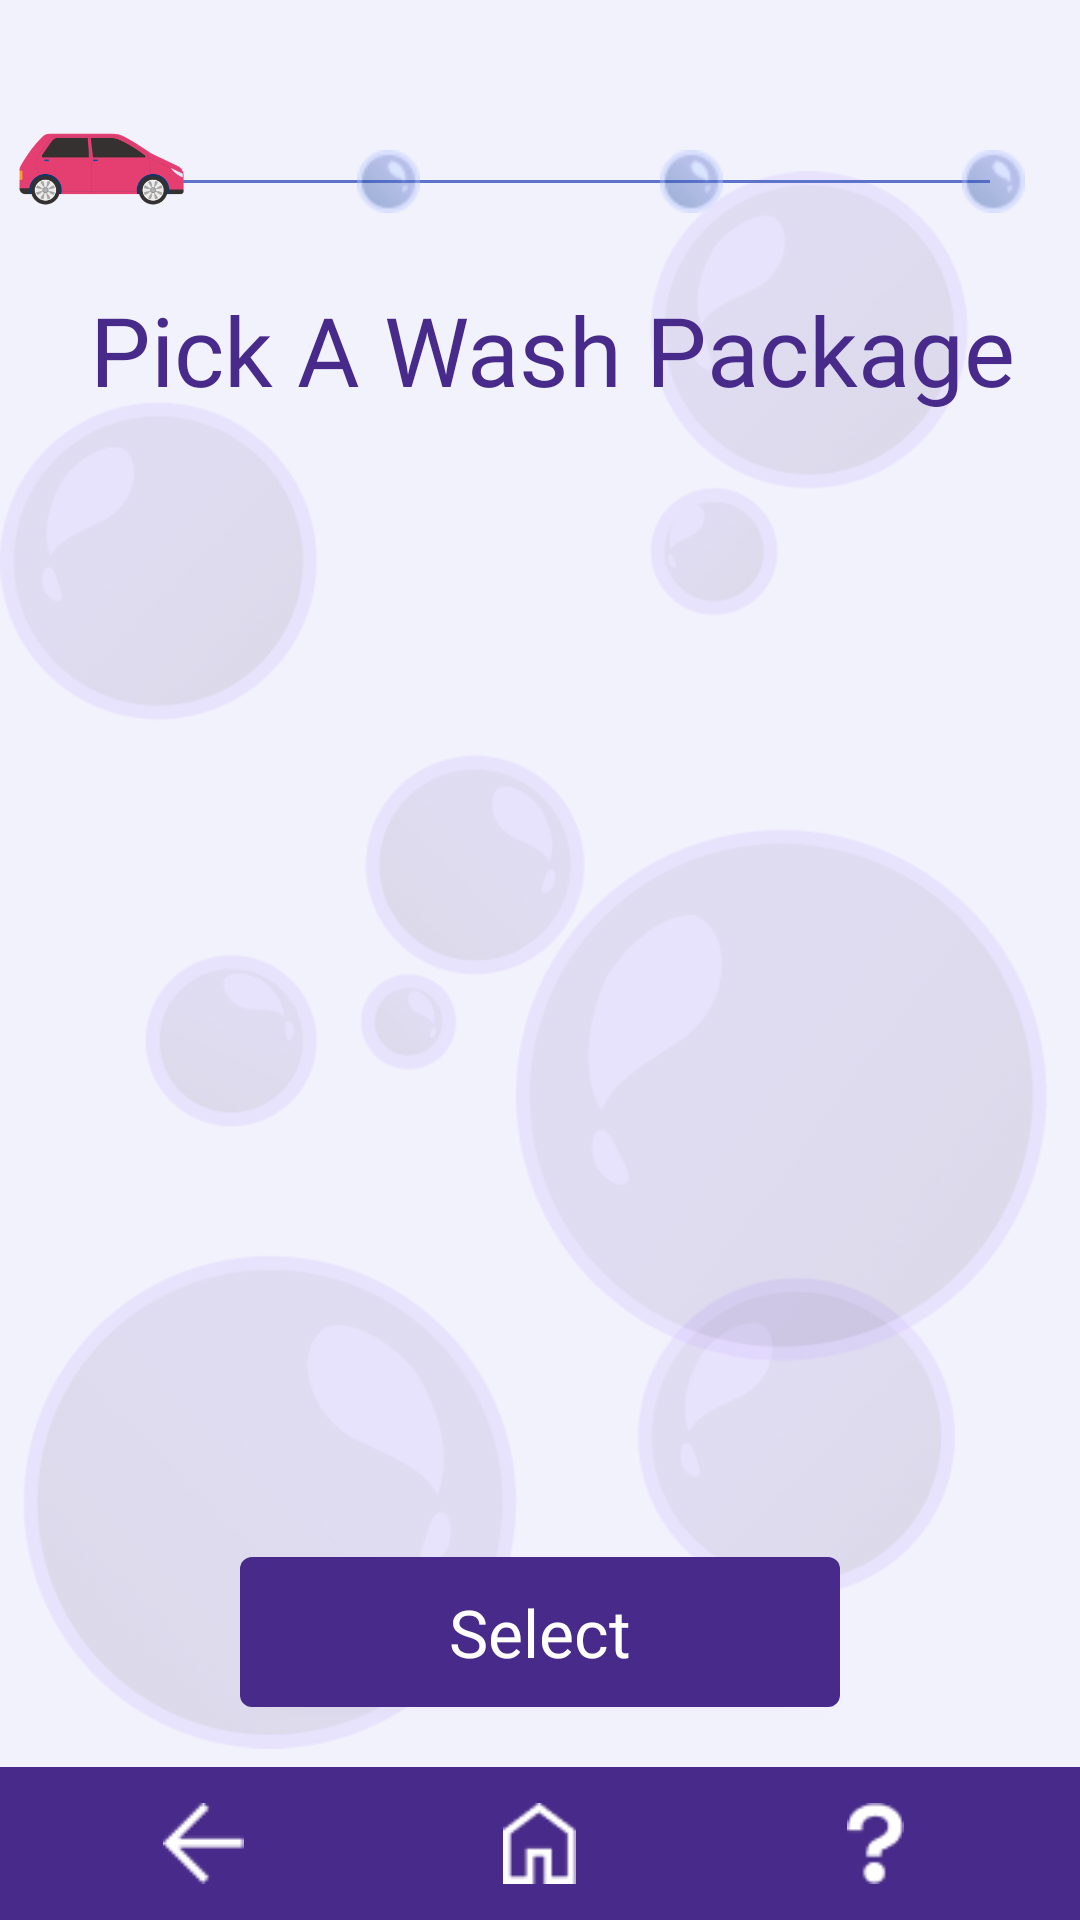

Icons on this 1080x1920 Android screen, each with its box as bbox=[x1, y1, x2, y2]:
Back Button: bbox=[163, 1803, 244, 1884]
car: bbox=[19, 133, 193, 205]
Help Button: bbox=[847, 1803, 904, 1884]
Home Button: bbox=[503, 1803, 576, 1884]
incomplete bubble: bbox=[357, 150, 420, 213], bbox=[660, 150, 723, 213], bbox=[962, 150, 1025, 213]
